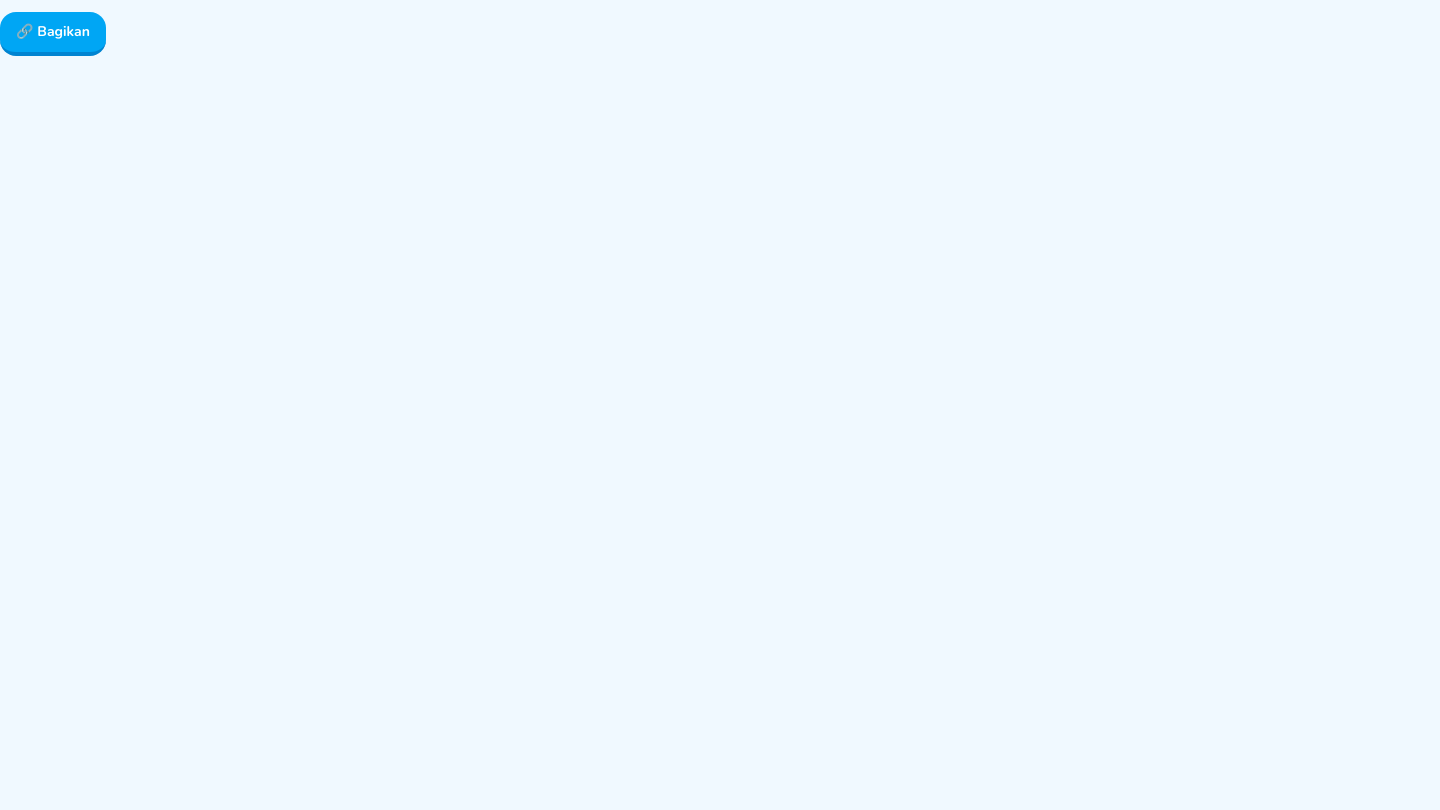
Test case: ShareAchievement Component › dapat menutup dialog menggunakan tombol silang ✕
Click the button "🔗 Bagikan" at (53, 34), box [0,12,106,56]
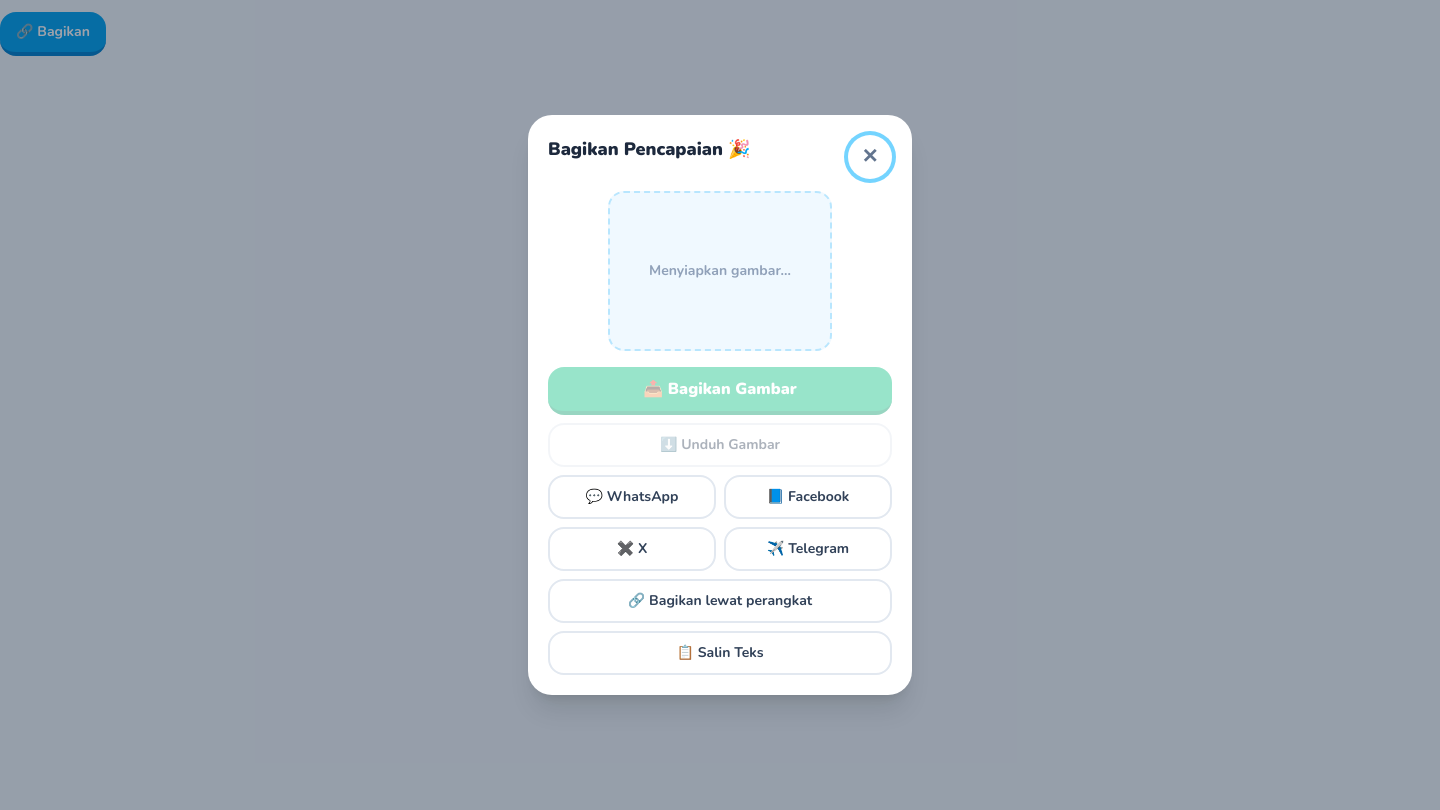
Now the dialog is shown, box [528,115,912,695]
Click the button named "Tutup panel berbagi" at (870, 157), box [848,135,892,179]
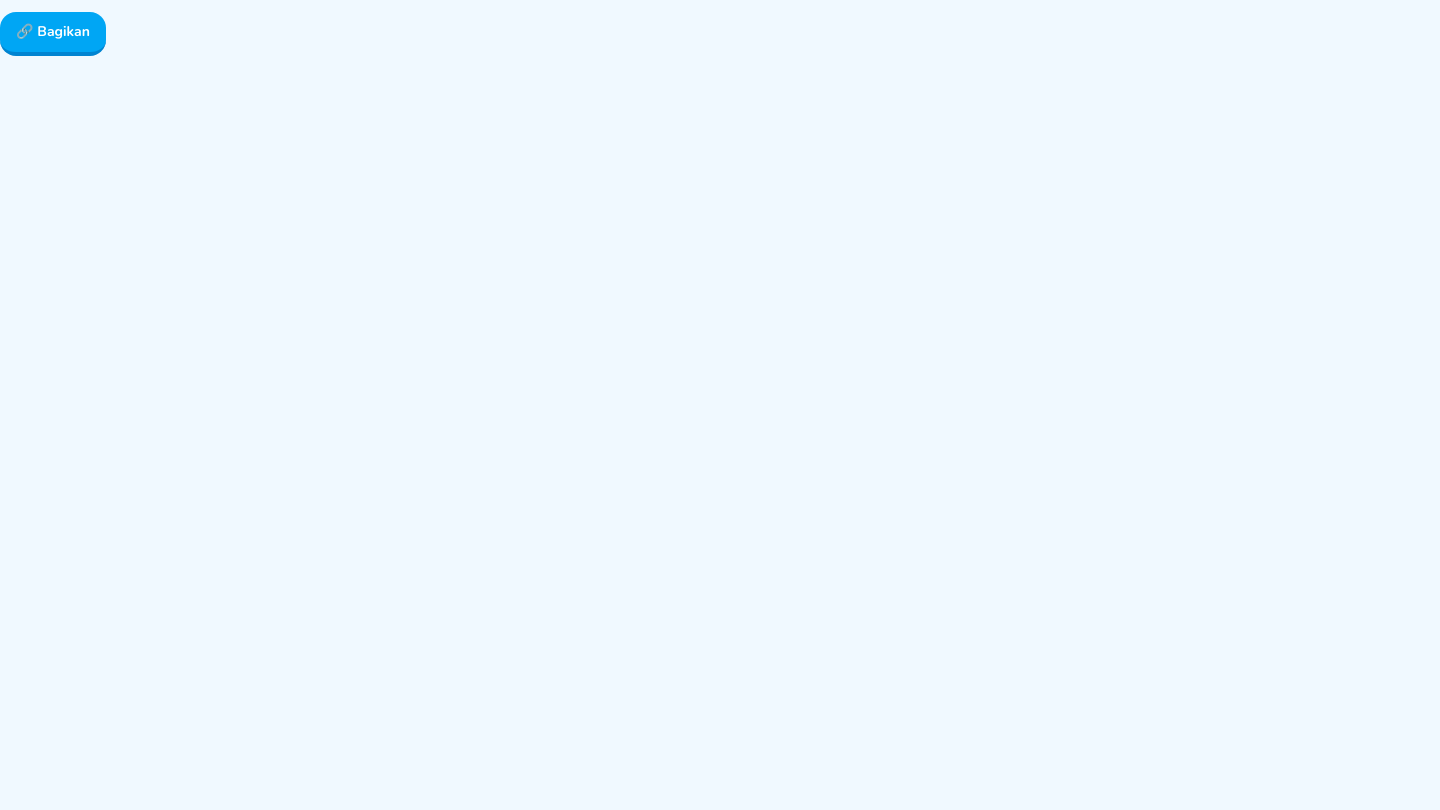
Now the dialog is gone
